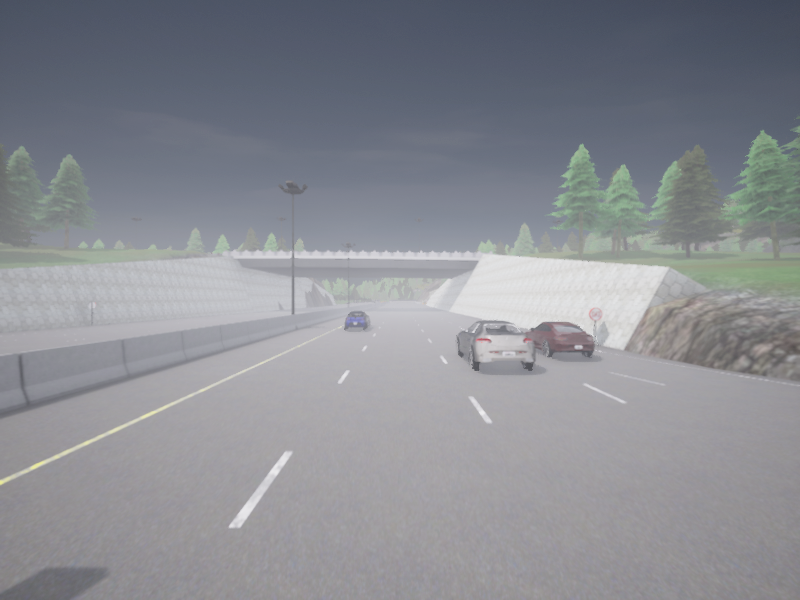vehicle: (456, 320, 535, 369), (525, 321, 594, 356), (345, 311, 369, 329)
